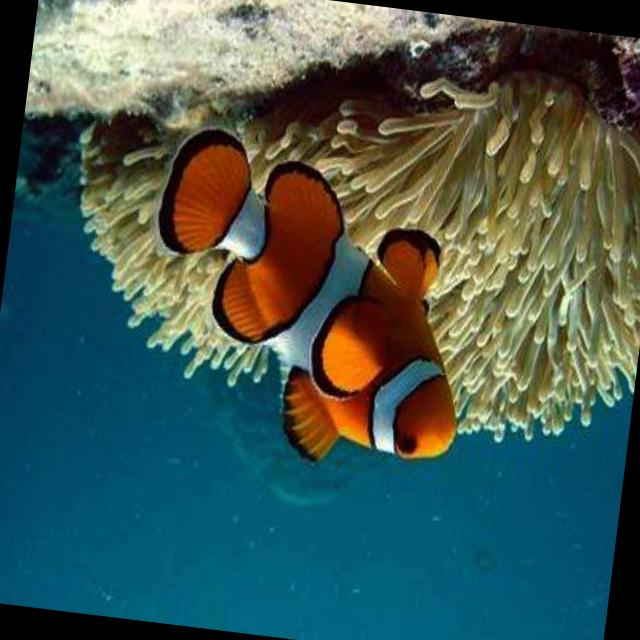ClownFish: (128, 114, 494, 478)
